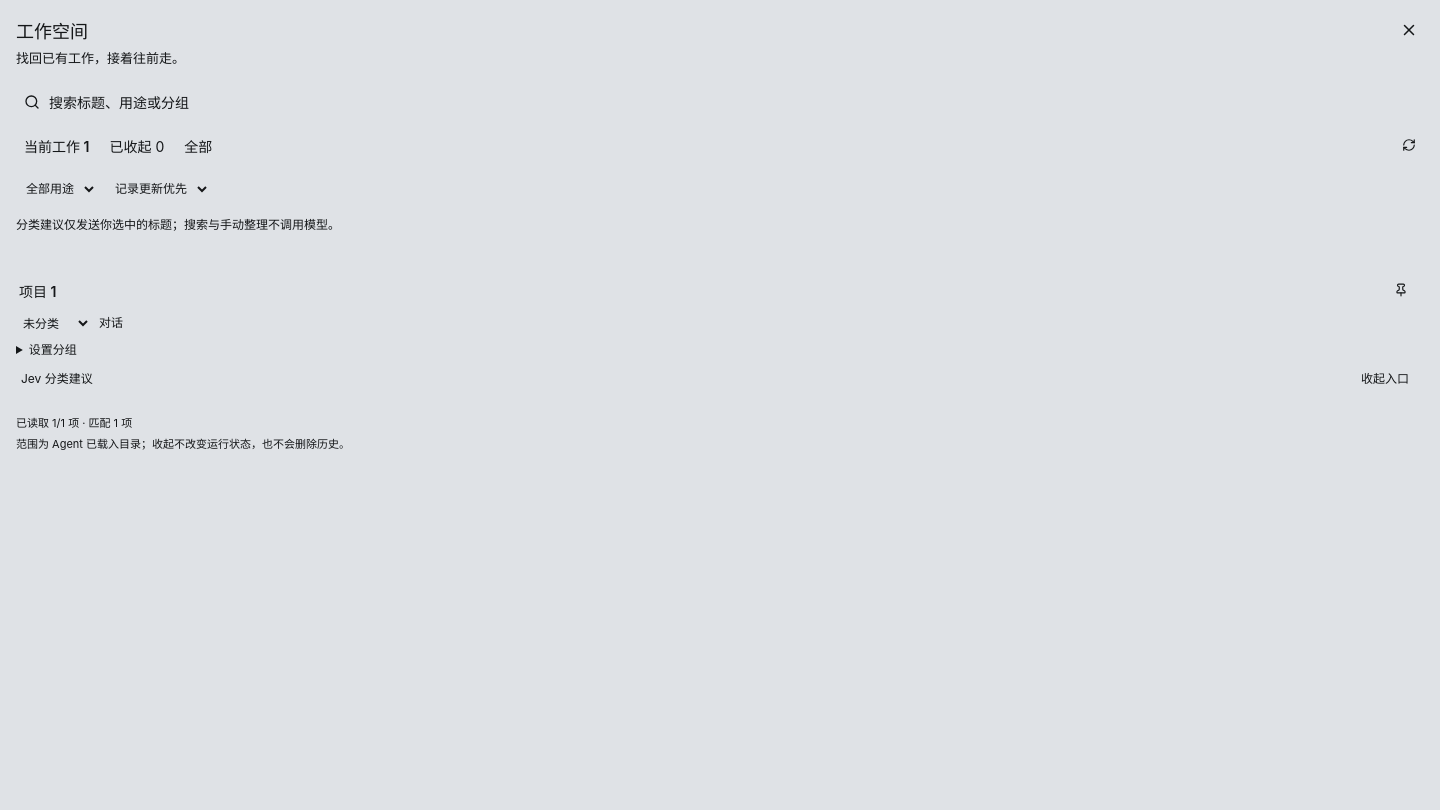
Test: OrganizationWorkspace v2.1 integration › edits group metadata through the existing command route
The image size is (1440, 810).
Expected: the button "项目 1" is shown, [16,278,1382,306]
Click the heading "设置分组" at [53, 349], box [29,342,77,356]
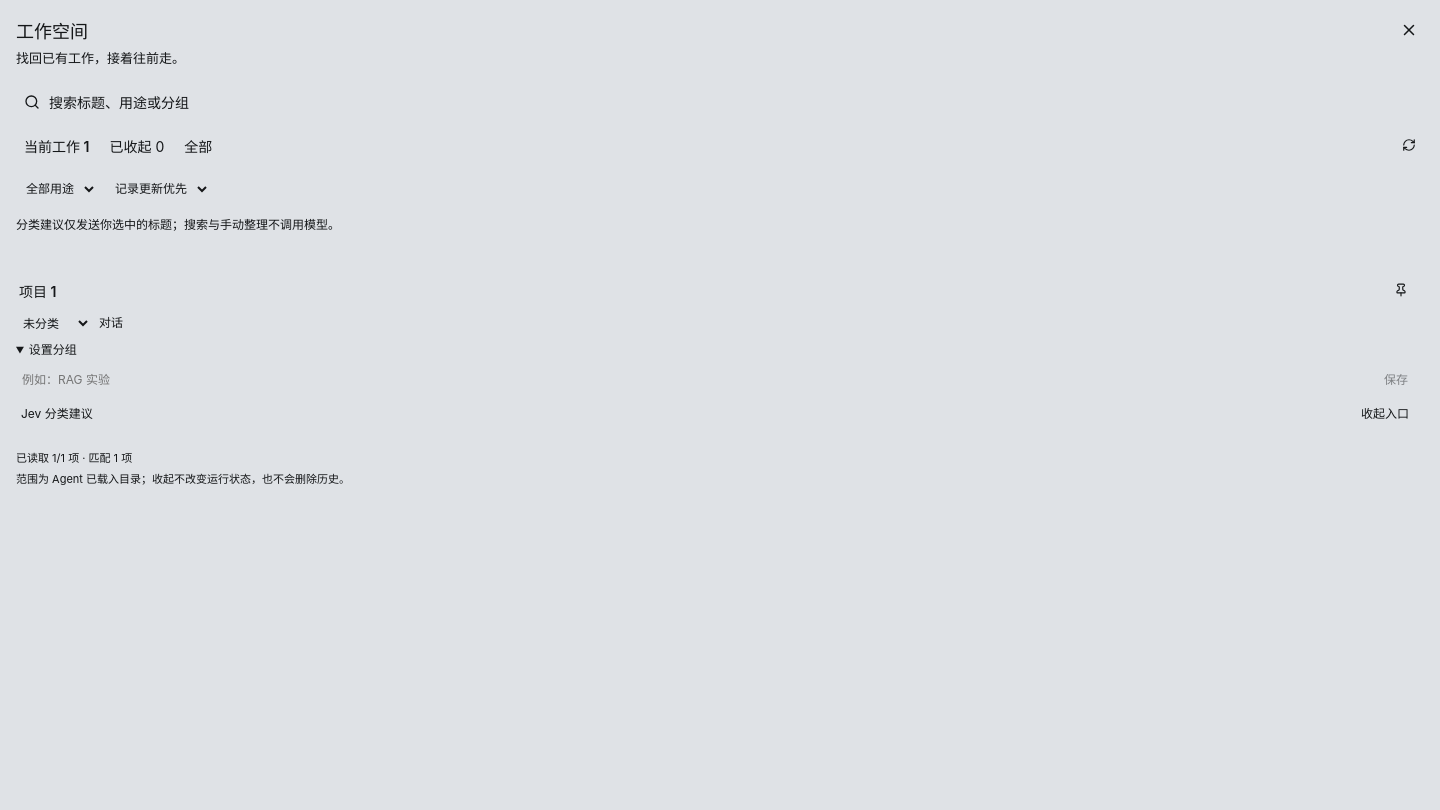
Type "RAG 实验" into the field named "项目 1的分组" at [694, 380], box [16,366,1372,394]
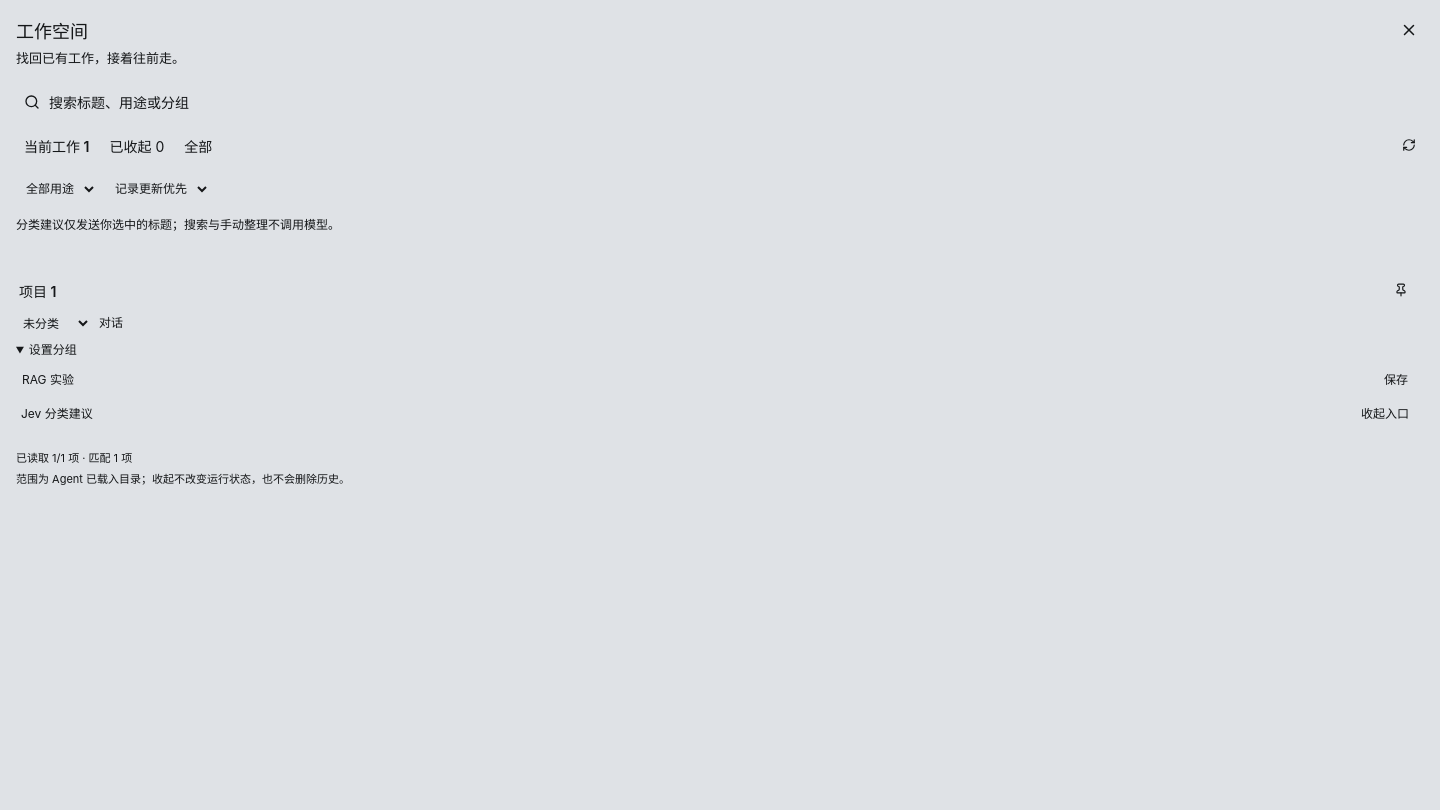
Click the button "保存" at [1396, 380], box [1378,366,1414,394]
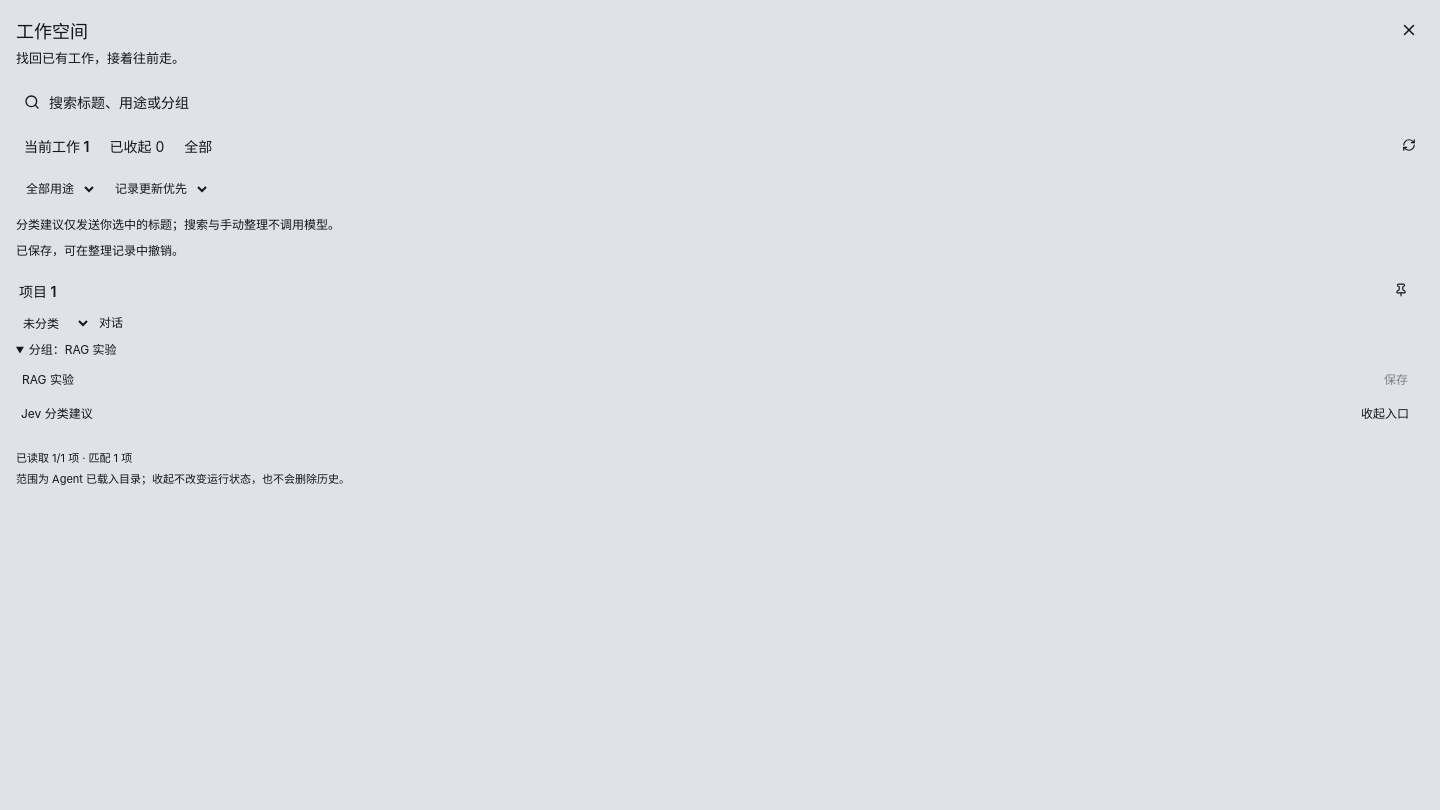
Expected: the heading "分组：RAG 实验" is shown, [29,342,117,356]
